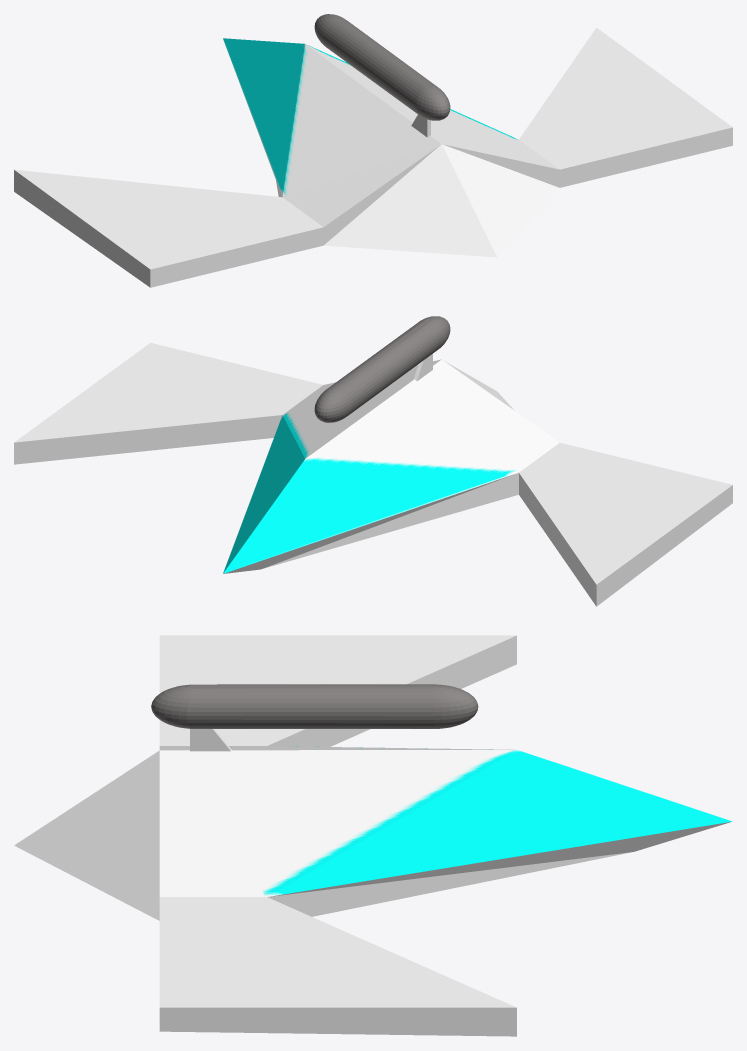
The model's file is player.obj.
The picture shows the model from 3 angles, top to bottom: view 1: azimuth 30°, elevation 25°; view 2: azimuth 150°, elevation 25°; view 3: azimuth 270°, elevation 25°; orthographic projection. The views are drawn at different scales.
Visible parts, largest first — view 1: 球; view 2: 球; view 3: 球.
Part boxes in pixels (x1,y1,x2,y2): 球: (14,14,732,287); 球: (14,316,732,606); 球: (14,635,732,1036).
Size of the model in its own units: 4.93 by 1.02 by 4.02.
Materials: 1 (1 with a texture image).
